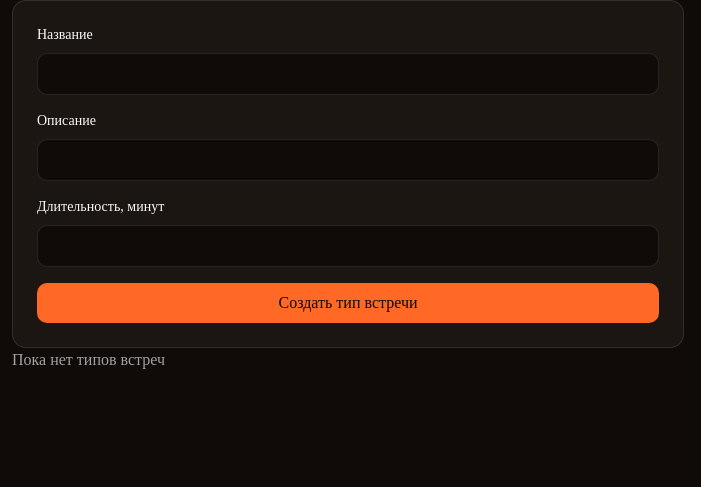
Test: admin page creates event types › creates a type via the SDK and shows it in the list
Type "Созвон" into the field labelled "Название" at {"x": 348, "y": 74}, box 37,53 -> 659,95
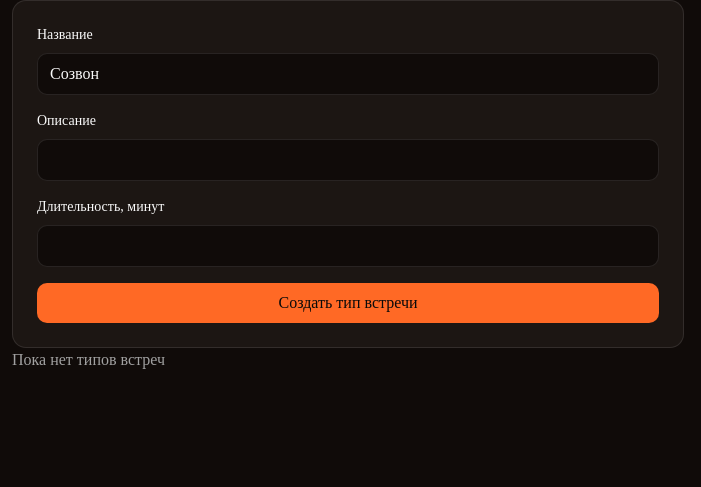
Type "Короткий звонок" into the field labelled "Описание" at {"x": 348, "y": 160}, box 37,139 -> 659,181
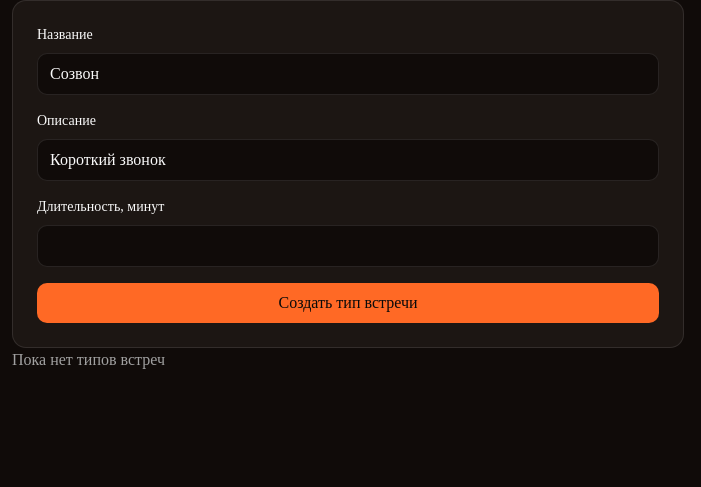
Type "15" into the number field labelled "Длительность, минут" at {"x": 348, "y": 246}, box 37,225 -> 659,267
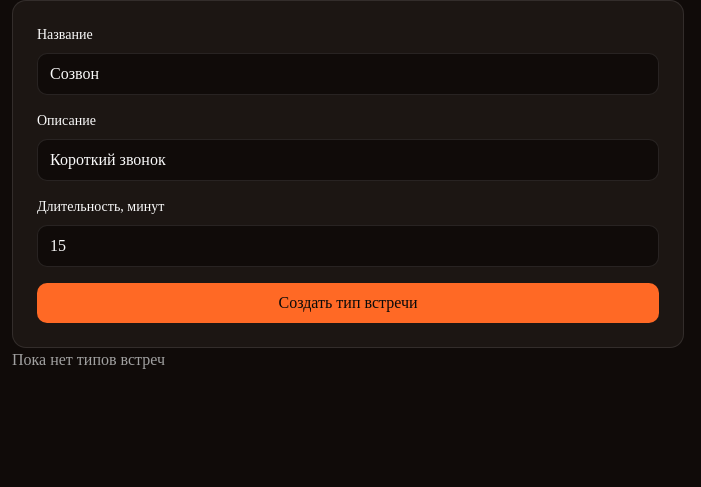
Click the button "Создать тип встречи" at {"x": 348, "y": 303}, box 37,283 -> 659,323
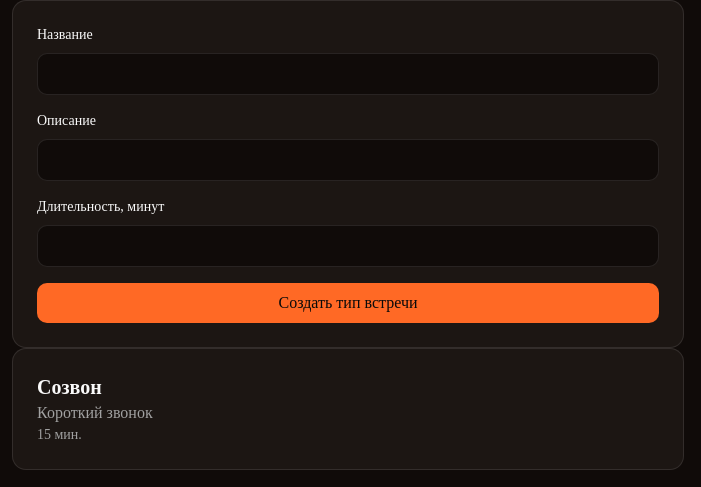
Check: the heading "Созвон" is shown, box 37,376 -> 102,398
Check: the text "15 мин." is shown, box 37,427 -> 82,442
